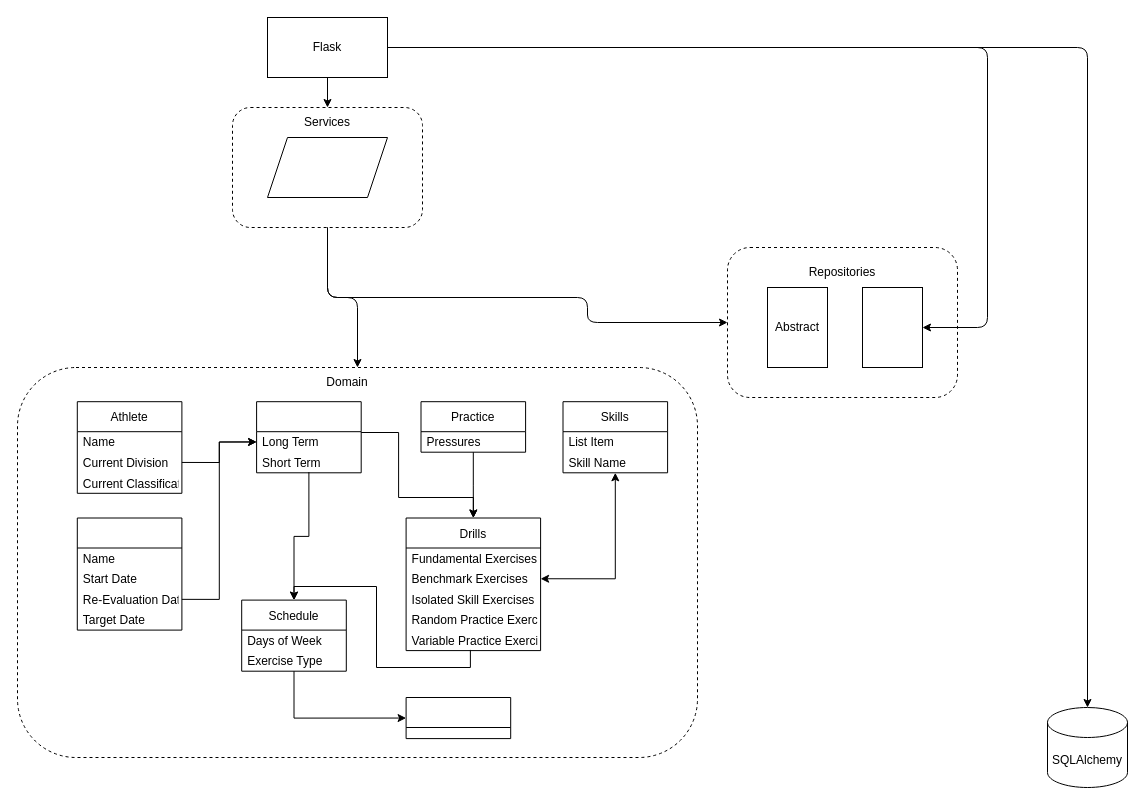
The diagram is 1145 pixels wide and 805 high, and some of its shapes have lost their labels. Here are the shapes that lost their labels. From the top down, the box of each, then its label:
(862, 286, 922, 368): SQLA
(256, 401, 361, 473): Goals
(76, 517, 182, 630): Actionable Steps
(405, 696, 511, 739): Results
